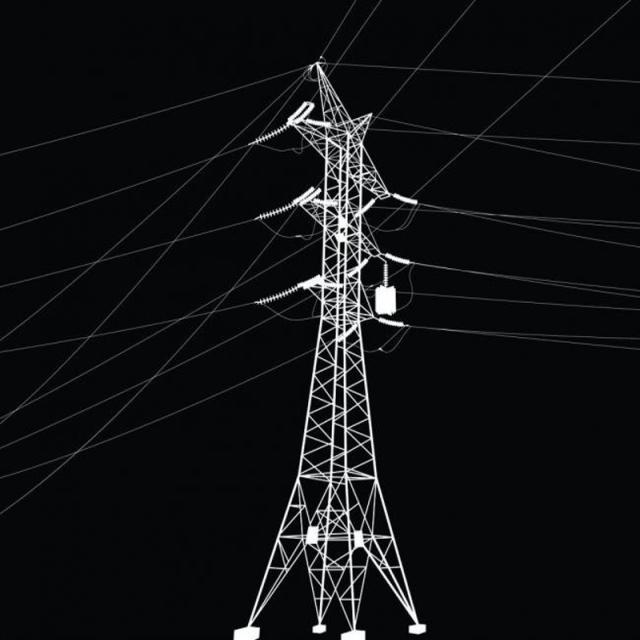non-critical vegetation: (217, 48, 458, 631)
